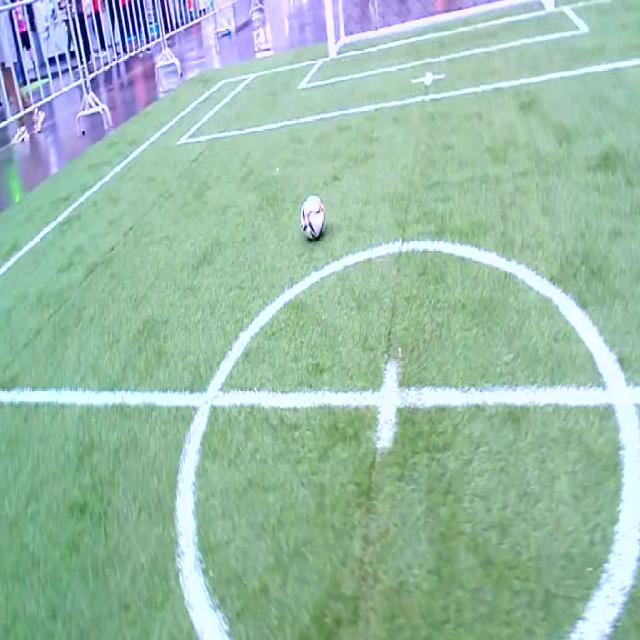ball: (300, 195, 324, 238)
